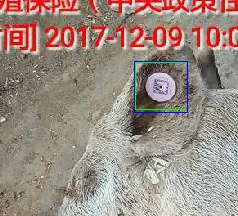text: (135, 62, 187, 109)
